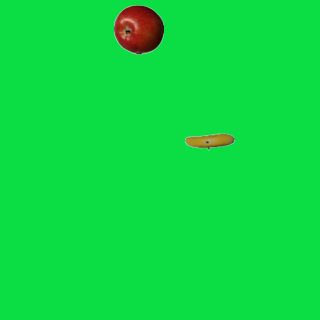Apple Braeburn: (113, 4, 163, 54)
Banana: (184, 116, 234, 166)
